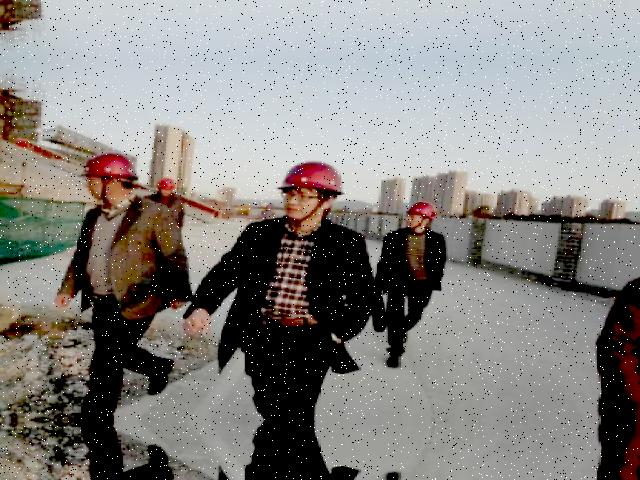Helmet: (270, 156, 351, 200), (74, 148, 138, 188), (400, 198, 442, 218), (153, 175, 180, 194)
